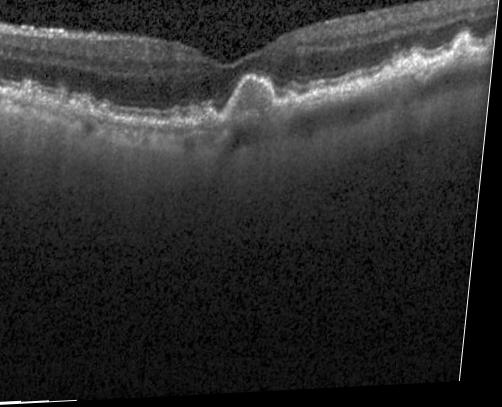retinal_drusen: (233, 81, 275, 123), (402, 58, 429, 79), (189, 110, 218, 128), (454, 43, 473, 69), (72, 97, 93, 115), (379, 71, 396, 88), (17, 83, 34, 100), (343, 81, 359, 98), (287, 94, 301, 109), (98, 106, 114, 119), (171, 114, 184, 129)
